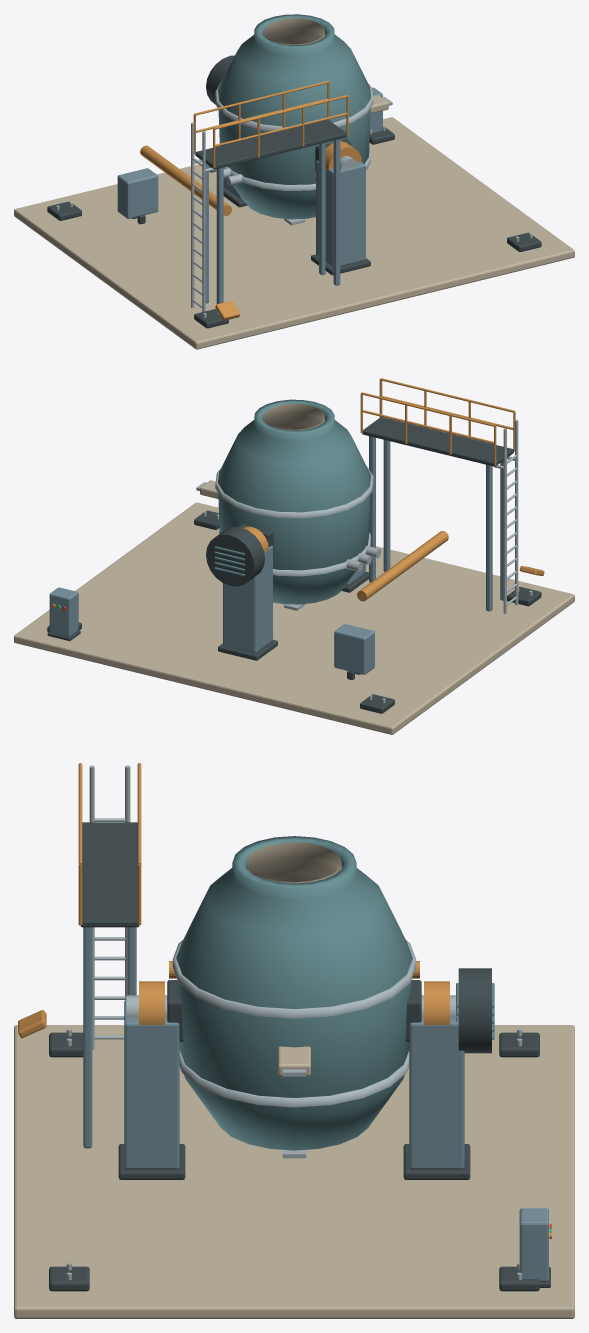
The model's file is STS-HR-03-lod1.glb.
3 renders of one model, top to bottom at view 1: azimuth 30°, elevation 25°; view 2: azimuth 150°, elevation 25°; view 3: azimuth 270°, elevation 25°, orthographic. The views are drawn at different scales.
Visible parts, largest first — view 1: foundation, refractory_vessel, far_pedestal, aod_service_deck, gas_valve_bank, refractory_lining, aod_service_support_1_1, aod_service_support_-1_1, argon_manifold, aod_service_support_1_-1, vessel_hoop_0.65, aod_service_ladder_rail_1 (+7 smaller); view 2: foundation, refractory_vessel, near_pedestal, aod_service_deck, tilt_gearbox, gas_valve_bank, refractory_lining, control_cabinet, argon_manifold, vessel_hoop_0.65, aod_service_support_1_1, aod_service_support_-1_-1 (+7 smaller); view 3: foundation, refractory_vessel, far_pedestal, near_pedestal, aod_service_deck, refractory_lining, tilt_gearbox, vessel_hoop_0.65, vessel_hoop_-0.7, aod_service_support_1_1, control_cabinet, far_bearing (+10 smaller).
Boxes of the visible parts, box(x1,y1,x2,y2) form: foundation: box(14, 117, 574, 349); refractory_vessel: box(218, 14, 370, 219); far_pedestal: box(316, 160, 365, 267); aod_service_deck: box(195, 120, 346, 169); gas_valve_bank: box(117, 168, 158, 218); refractory_lining: box(264, 18, 324, 44); aod_service_support_1_1: box(333, 139, 340, 285); aod_service_support_-1_1: box(216, 167, 223, 303); argon_manifold: box(140, 145, 231, 215); aod_service_support_1_-1: box(319, 142, 325, 274); vessel_hoop_0.65: box(215, 81, 373, 131); aod_service_ladder_rail_1: box(202, 131, 205, 311); foundation: box(14, 502, 574, 734); refractory_vessel: box(218, 399, 370, 604); near_pedestal: box(223, 545, 272, 653); aod_service_deck: box(362, 417, 513, 466); tilt_gearbox: box(206, 527, 264, 586); gas_valve_bank: box(334, 624, 374, 674); refractory_lining: box(264, 403, 324, 430); control_cabinet: box(49, 587, 78, 636); argon_manifold: box(357, 531, 448, 601); vessel_hoop_0.65: box(215, 466, 373, 518); aod_service_support_1_1: box(383, 440, 390, 571); aod_service_support_-1_-1: box(486, 464, 492, 611); foundation: box(14, 1025, 574, 1318); refractory_vessel: box(176, 836, 412, 1150); far_pedestal: box(124, 999, 179, 1169); near_pedestal: box(409, 1017, 464, 1169); aod_service_deck: box(80, 822, 139, 927); refractory_lining: box(247, 842, 341, 883); tilt_gearbox: box(458, 968, 491, 1053); vessel_hoop_0.65: box(172, 940, 416, 1018); vessel_hoop_-0.7: box(179, 1050, 409, 1107); aod_service_support_1_1: box(83, 927, 92, 1148); control_cabinet: box(519, 1208, 548, 1281); far_bearing: box(139, 981, 164, 1024).
Size of the model in its own units: 9.1 by 4.75 by 7.6.
